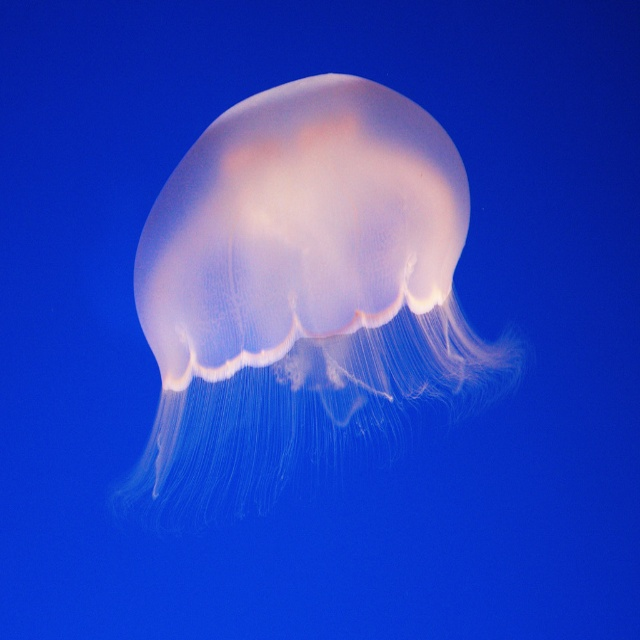Jellyfish: (121, 74, 525, 537)
